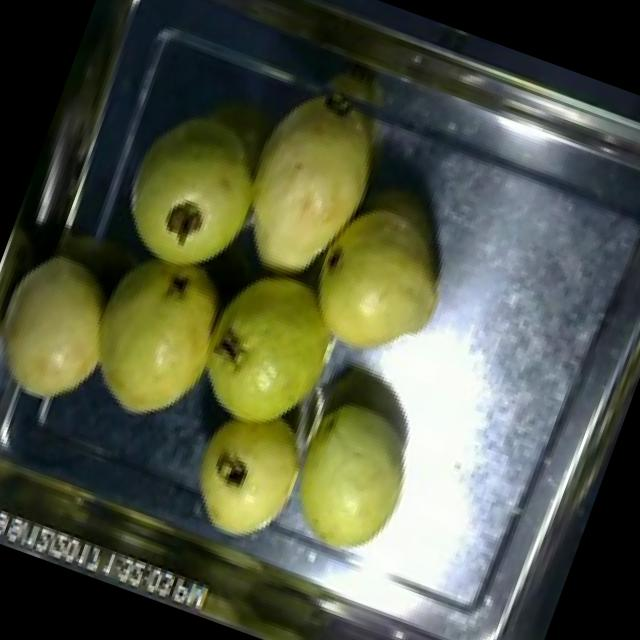Fruit: (205, 72, 407, 310), (280, 165, 480, 386), (185, 245, 371, 456), (62, 225, 240, 442), (98, 93, 286, 297), (270, 380, 440, 580), (167, 385, 326, 565), (0, 230, 142, 425)
